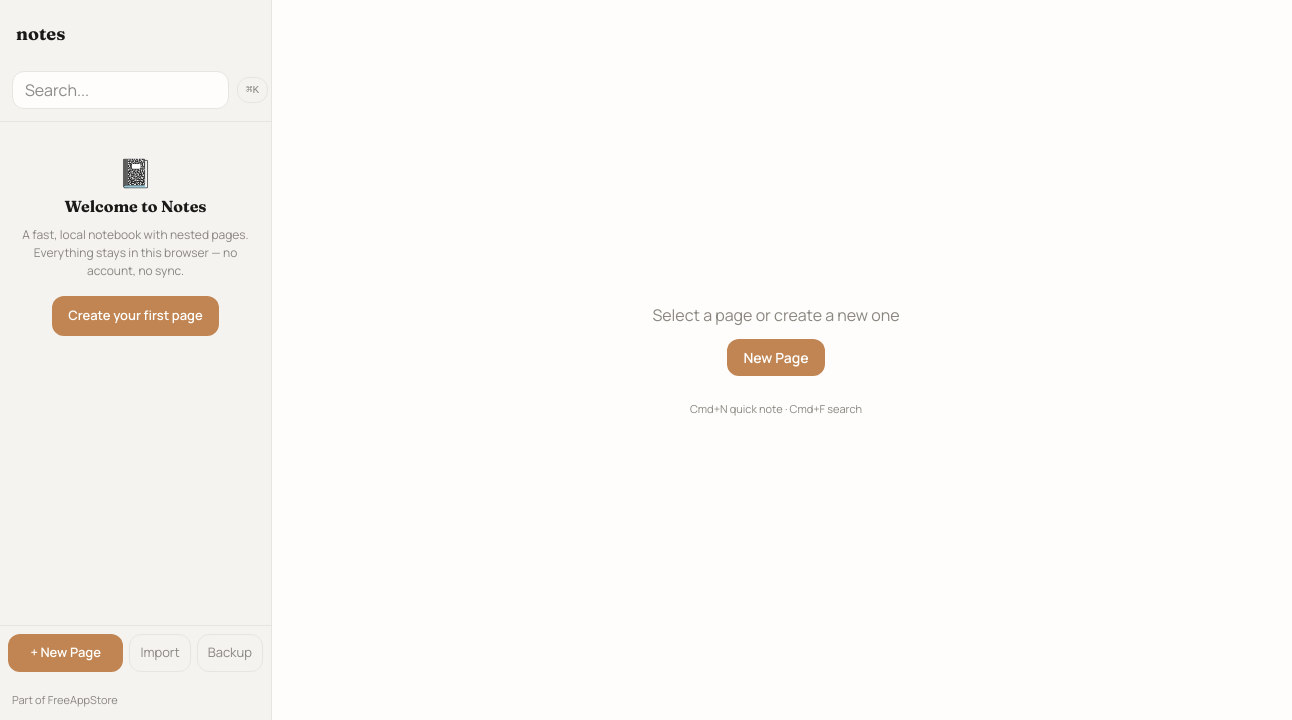
App › navigates back to list
This screenshot has width=1292, height=720.
Type keys "{Meta>}n{/Meta}"
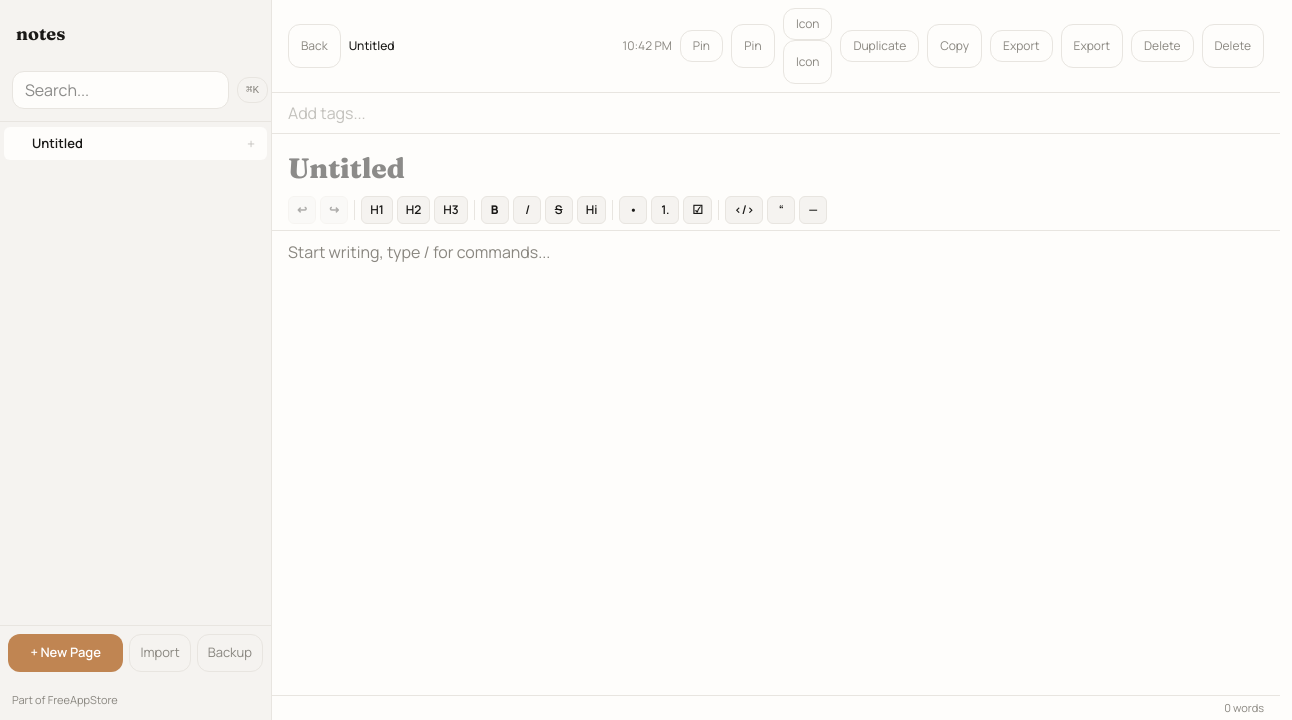
Click the button "Back": (314, 46) [288,24,341,68]
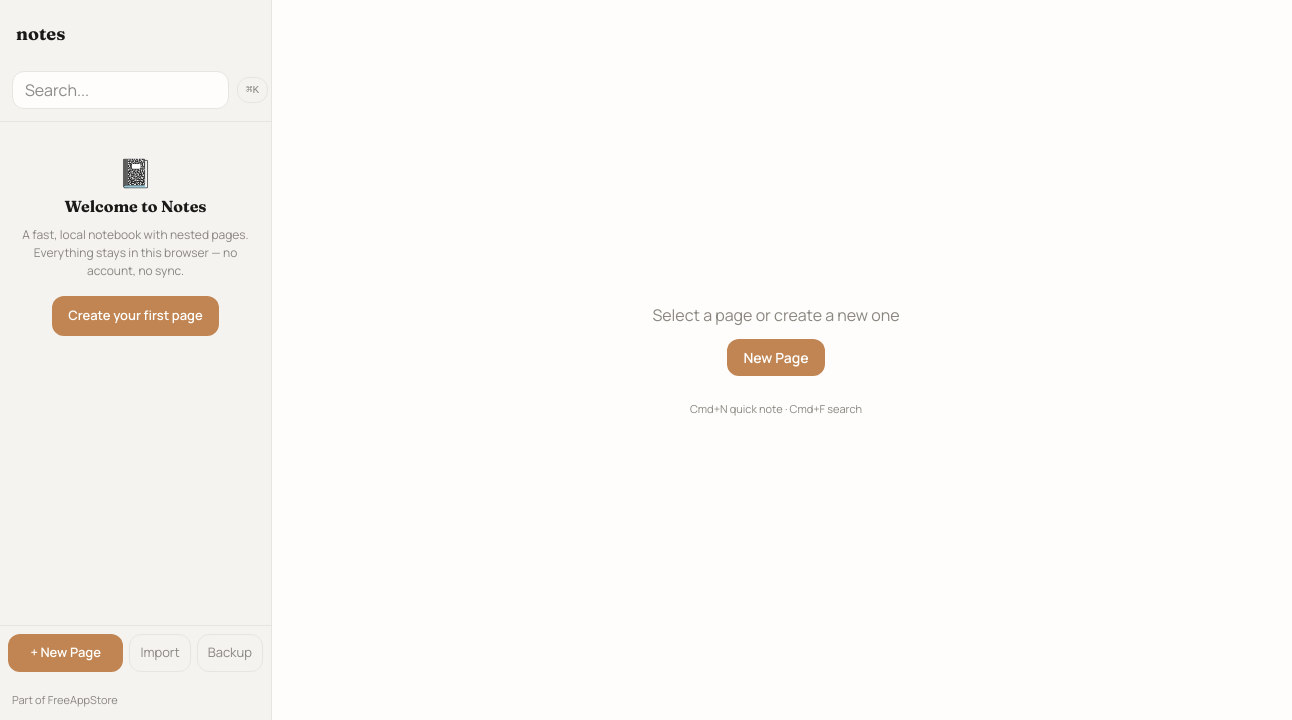
Result: no elements with placeholder "Untitled" are shown
